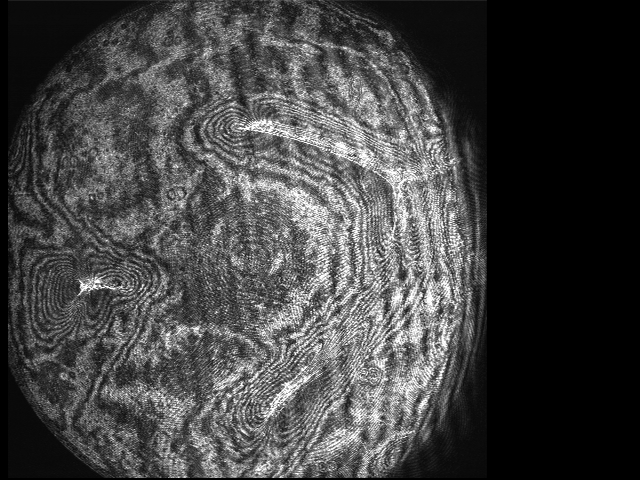plume: (25, 252, 147, 327)
